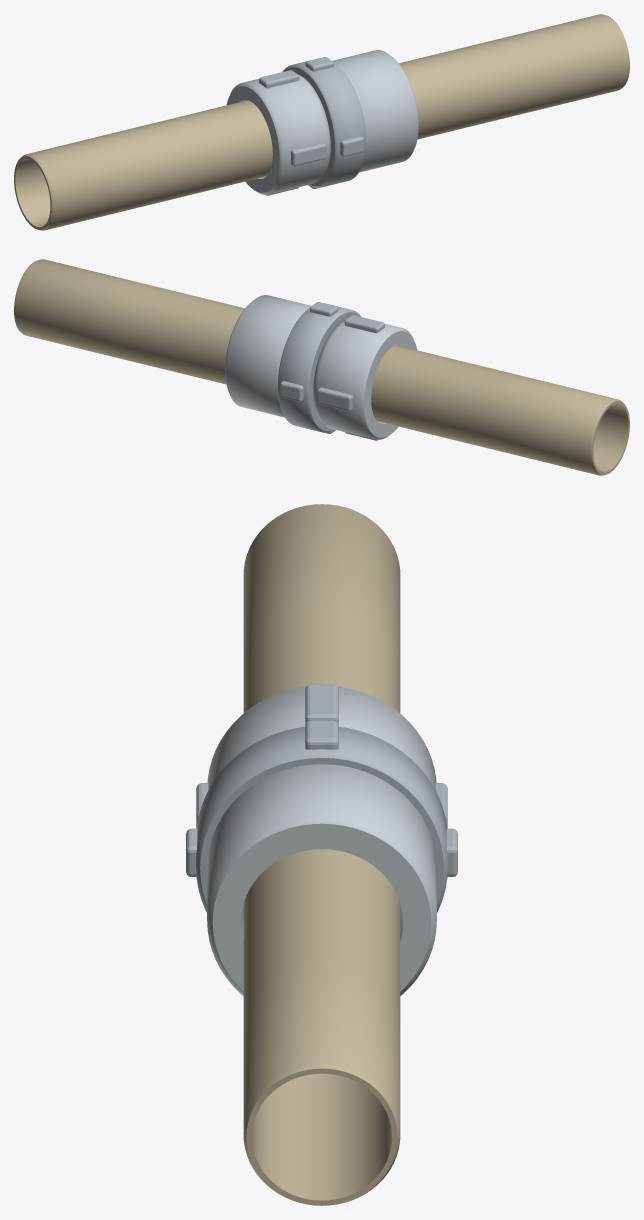
File: linea-acoplada.glb
The picture shows the model from 3 angles, top to bottom: view 1: azimuth 30°, elevation 25°; view 2: azimuth 150°, elevation 25°; view 3: azimuth 270°, elevation 25°; orthographic projection. The views are drawn at different scales.
Visible parts, largest first — view 1: Linea_Macho_Manguera, Linea_Hembra_Manguera, Macho_Cuerpo.001, Hembra_Cuerpo.001, Hembra_Collar_giratorio.001, Acople_Macho_Saliente_4.001, Acople_Macho_Saliente_3.001, Acople_Hembra_Saliente_4.001; view 2: Linea_Macho_Manguera, Linea_Hembra_Manguera, Macho_Cuerpo.001, Hembra_Cuerpo.001, Hembra_Collar_giratorio.001, Acople_Macho_Saliente_2.001, Acople_Macho_Saliente_3.001, Acople_Hembra_Saliente_2.001; view 3: Linea_Hembra_Manguera, Linea_Macho_Manguera, Hembra_Cuerpo.001, Hembra_Collar_giratorio.001, Macho_Cuerpo.001, Acople_Macho_Saliente_3.001, Acople_Hembra_Saliente_1.001.
Boxes of the visible parts, x1,y1,x2,y2 form: Linea_Macho_Manguera: (14, 100, 272, 230); Linea_Hembra_Manguera: (399, 14, 629, 139); Macho_Cuerpo.001: (226, 75, 330, 194); Hembra_Cuerpo.001: (332, 50, 418, 172); Hembra_Collar_giratorio.001: (282, 58, 365, 187); Acople_Macho_Saliente_4.001: (290, 142, 326, 166); Acople_Macho_Saliente_3.001: (259, 70, 299, 88); Acople_Hembra_Saliente_4.001: (340, 136, 363, 156); Linea_Macho_Manguera: (371, 345, 629, 475); Linea_Hembra_Manguera: (14, 259, 244, 384); Macho_Cuerpo.001: (313, 320, 417, 439); Hembra_Cuerpo.001: (225, 295, 311, 417); Hembra_Collar_giratorio.001: (278, 303, 361, 432); Acople_Macho_Saliente_2.001: (317, 387, 353, 411); Acople_Macho_Saliente_3.001: (344, 315, 384, 333); Acople_Hembra_Saliente_2.001: (280, 381, 303, 401); Linea_Hembra_Manguera: (243, 849, 400, 1205); Linea_Macho_Manguera: (243, 504, 400, 712); Hembra_Cuerpo.001: (207, 764, 436, 995); Hembra_Collar_giratorio.001: (196, 727, 447, 912); Macho_Cuerpo.001: (207, 686, 436, 789); Acople_Macho_Saliente_3.001: (305, 684, 338, 724); Acople_Hembra_Saliente_1.001: (305, 720, 338, 749).
Bounding box in the file's own units: 0.4765 × 0.097 × 0.097.
